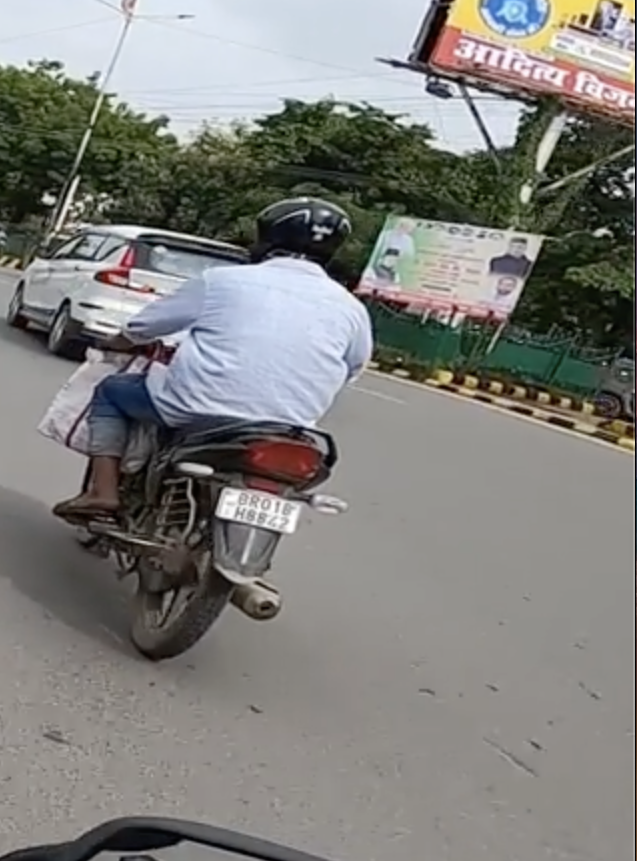motor: (50, 301, 369, 691)
number: (214, 467, 315, 556)
with helmet: (240, 180, 360, 273)
